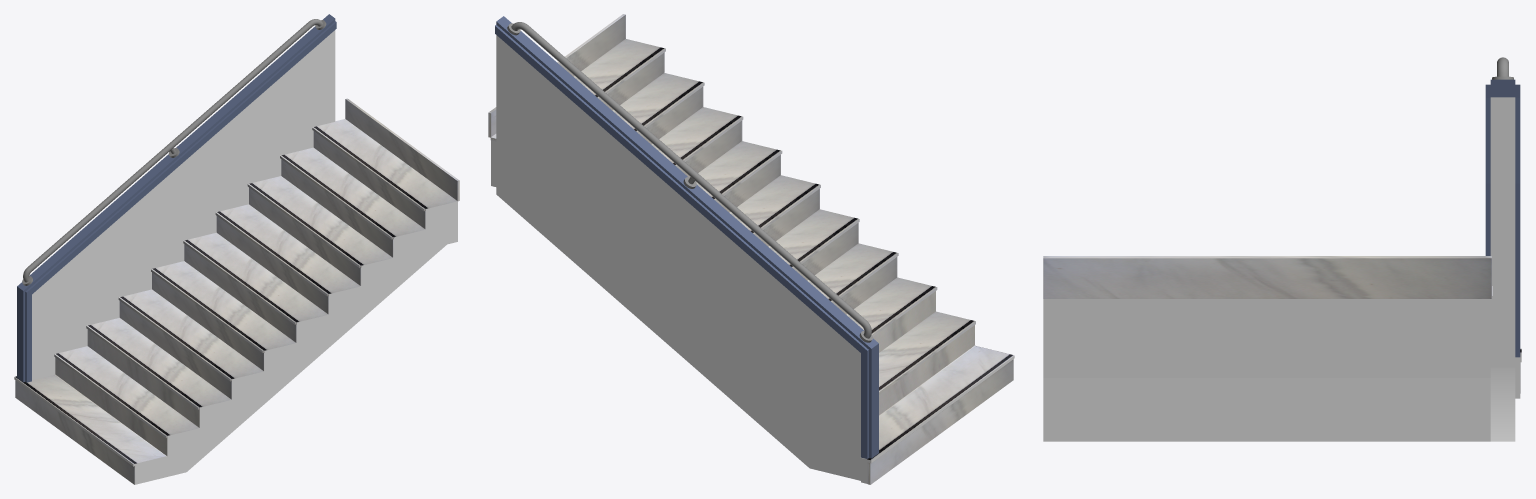
Rendered from StairsPB.dae.
3 renders of one model, left to right at view 1: azimuth 30°, elevation 25°; view 2: azimuth 150°, elevation 25°; view 3: azimuth 270°, elevation 25°, orthographic. The views are drawn at different scales.
Parts seen in each view (by area): view 1: StairsPB; view 2: StairsPB; view 3: StairsPB.
Part boxes in pixels (x1=…): StairsPB: x1=14, y1=14, x2=459, y2=484; StairsPB: x1=488, y1=14, x2=1014, y2=484; StairsPB: x1=1043, y1=57, x2=1521, y2=441.
Size of the model in its own units: 303 by 193 by 275.
3 materials, 3 textured.
